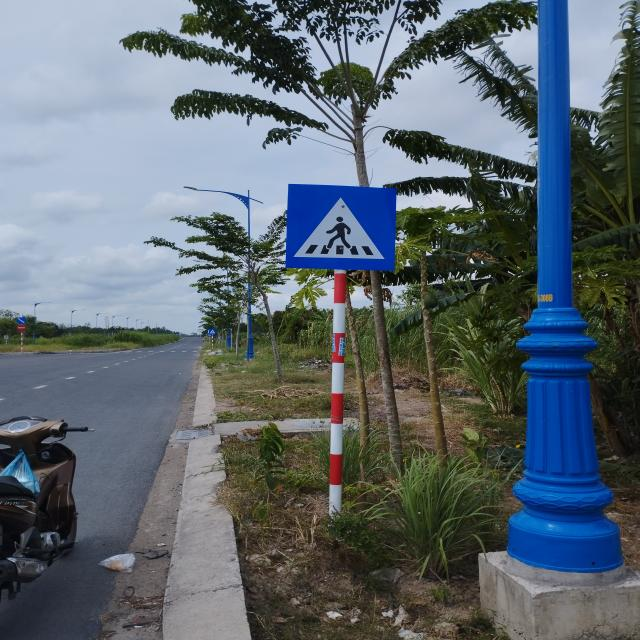Giao_Nhau_Duong_Uu_Tien: (285, 183, 395, 270)
